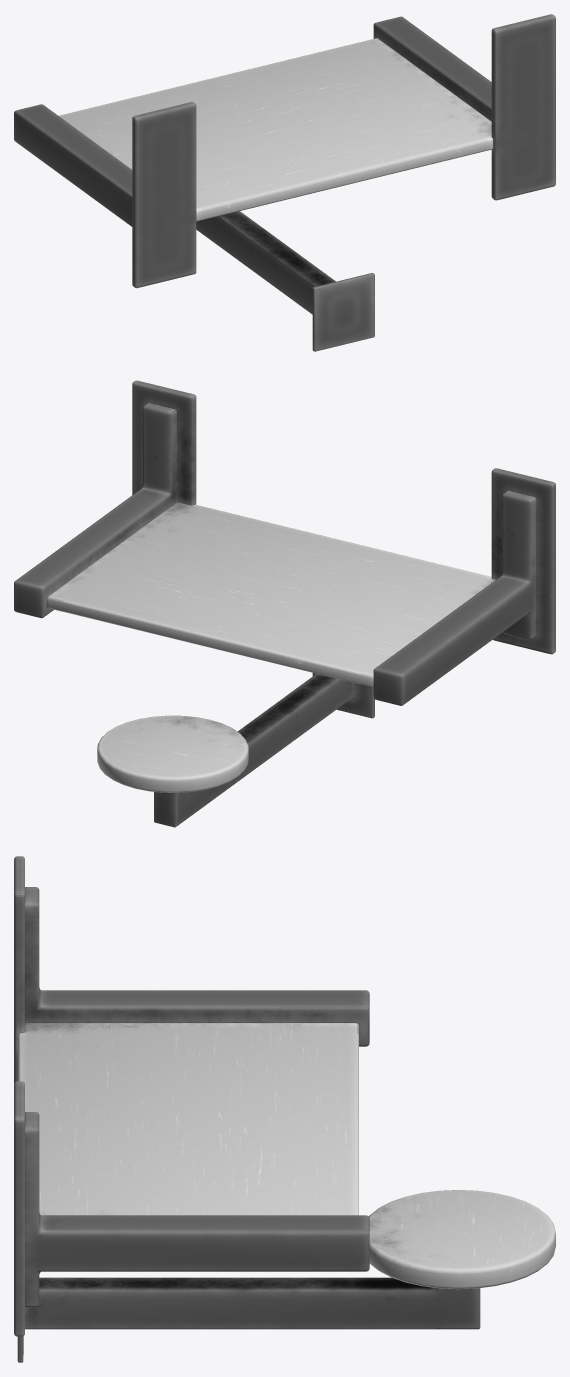
File: desk.fbx
3 views of the same model, one above another, from view 1: azimuth 30°, elevation 25°; view 2: azimuth 150°, elevation 25°; view 3: azimuth 270°, elevation 25° (orthographic). The views are drawn at different scales.
Parts seen in each view (by area): view 1: Desk Mesh; view 2: Desk Mesh; view 3: Desk Mesh.
Boxes of the visible parts, x1,y1,x2,y2 form: Desk Mesh: (14, 14, 555, 351); Desk Mesh: (14, 380, 555, 827); Desk Mesh: (14, 856, 555, 1362).
Size of the model in its own units: 147 by 92.54 by 127.
2 materials, 2 textured.
